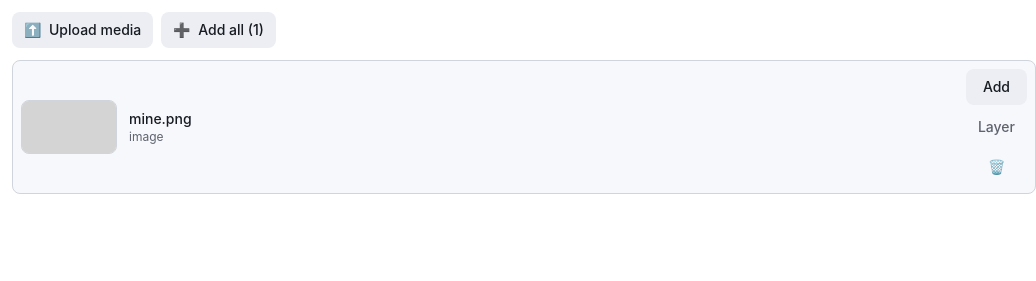
Test case: deleting a row › takes the file out of this project and out of storage
The width and height of the screenshot is (1036, 281).
Click the button named "Remove mine.png from the library".
click(996, 167)  # box [966,149,1027,185]
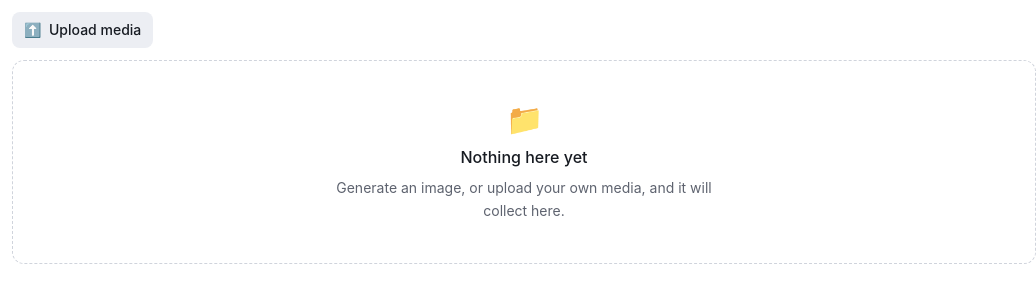
expect the text "mine.png" is gone: met
